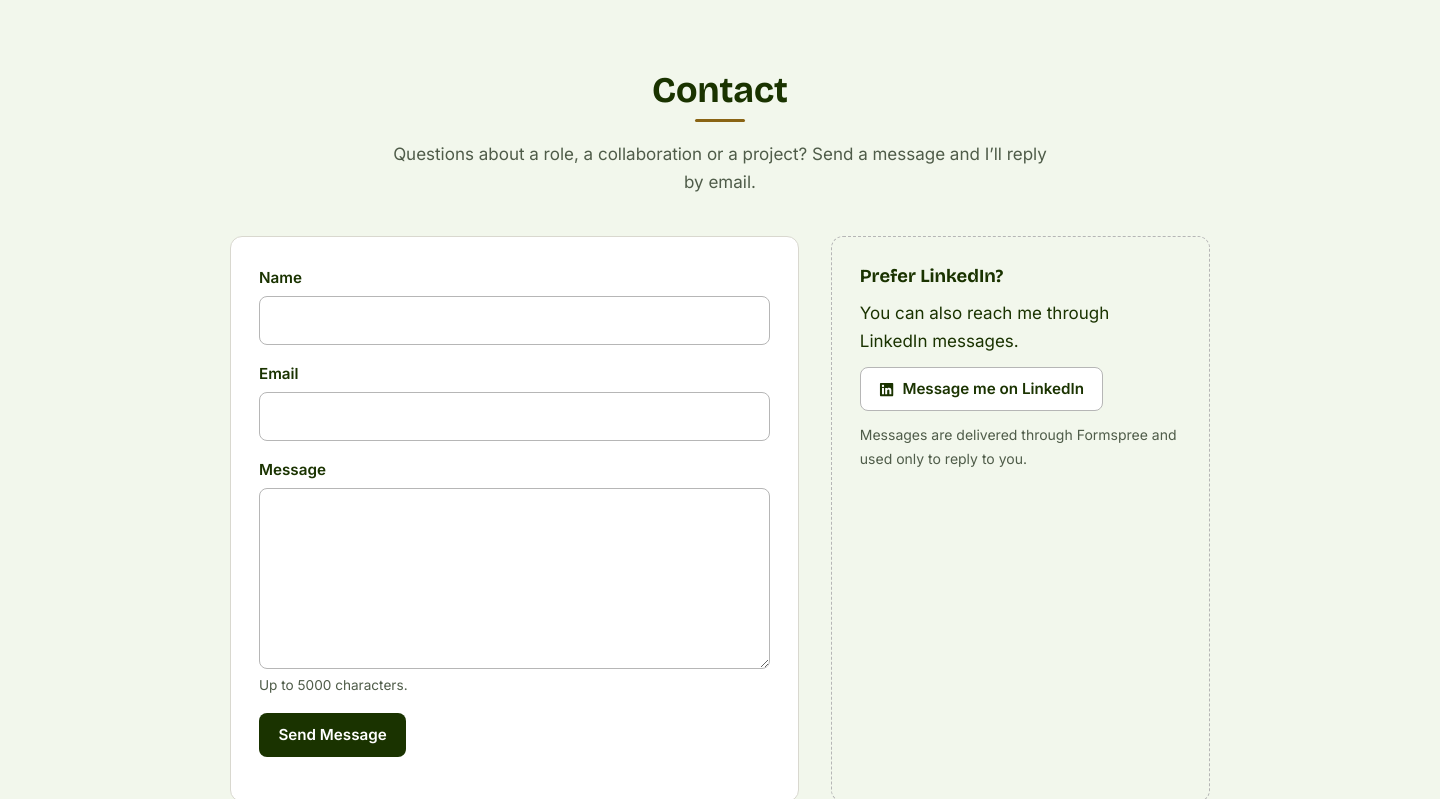
Contact form › reports missing fields without sending
Step 1. Click the button "Send Message" → (333,735), box x1=259 y1=713 x2=406 y2=757
(page scrolled)
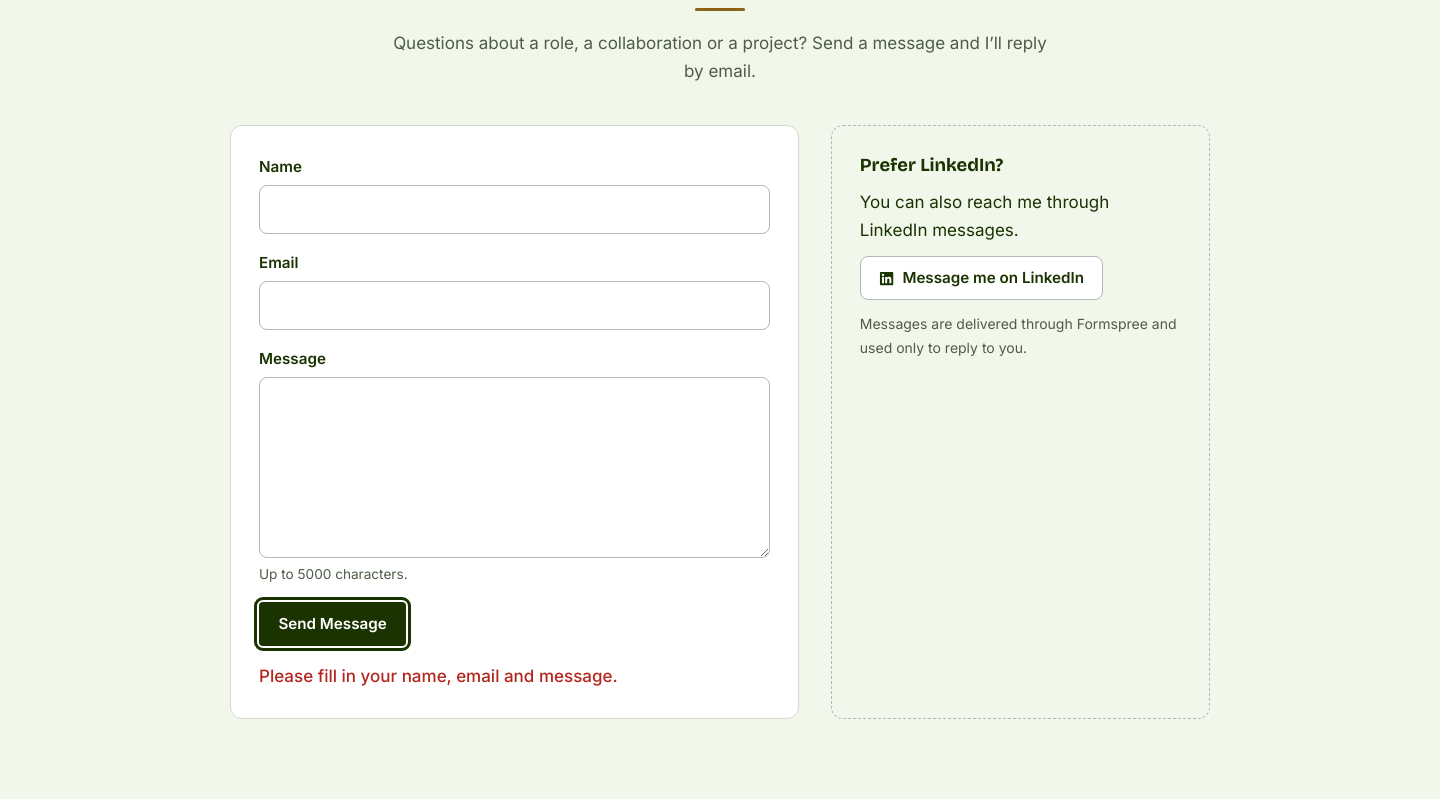
Expected: the message shows "fill in your name", x1=259 y1=666 x2=618 y2=686
